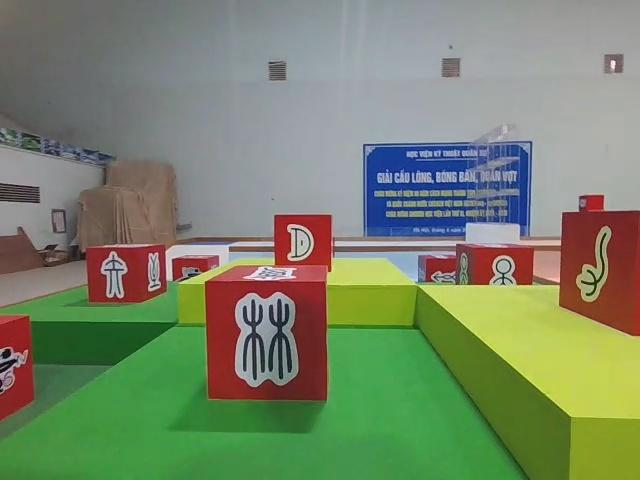R1: (0, 311, 37, 423), (171, 252, 220, 293)
R2 Fake: (202, 261, 330, 404), (83, 240, 169, 306)
R2 Real: (555, 207, 640, 339), (454, 241, 537, 295), (271, 210, 335, 275), (419, 253, 468, 291)
